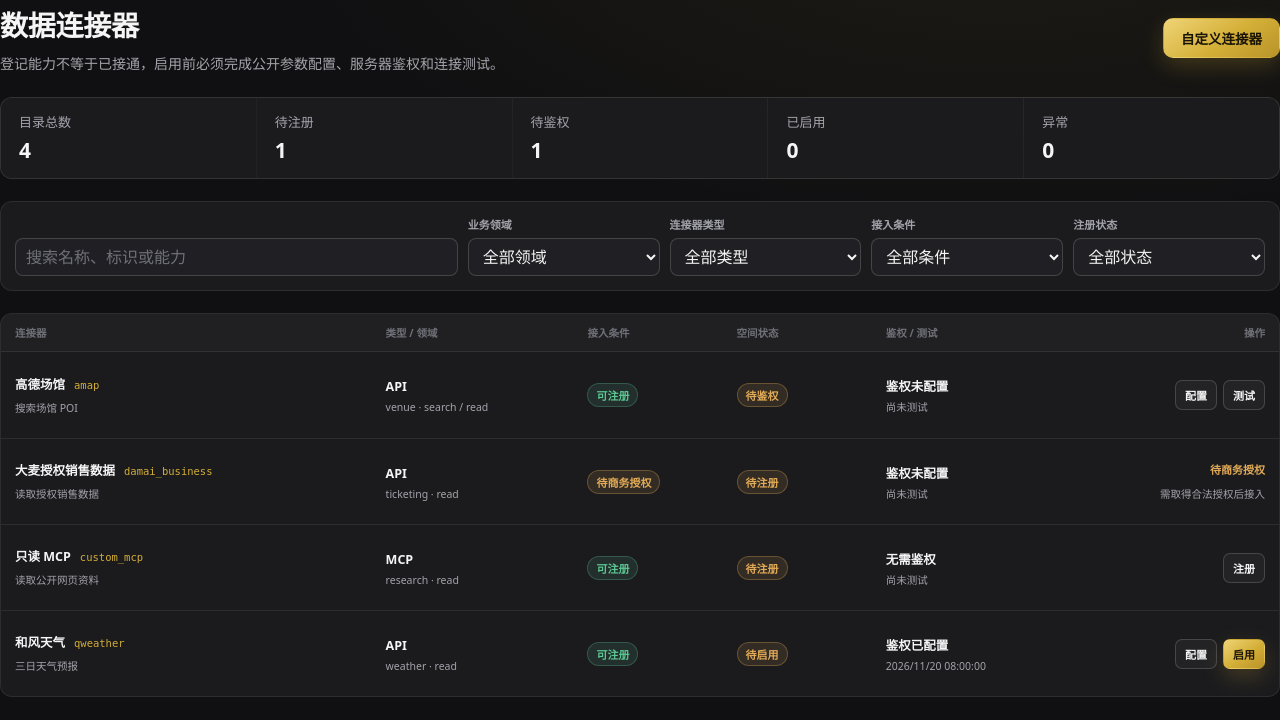
Test: DataConnectorRegistry › registers from schema fields and only submits a credential reference
The width and height of the screenshot is (1280, 720).
Later steps or results of the test are not shown.
Expected: the text "只读 MCP" is shown, [15,546,71,565]
Step 1. Click the button "注册" → (1244, 568), box [1223,553,1265,583]
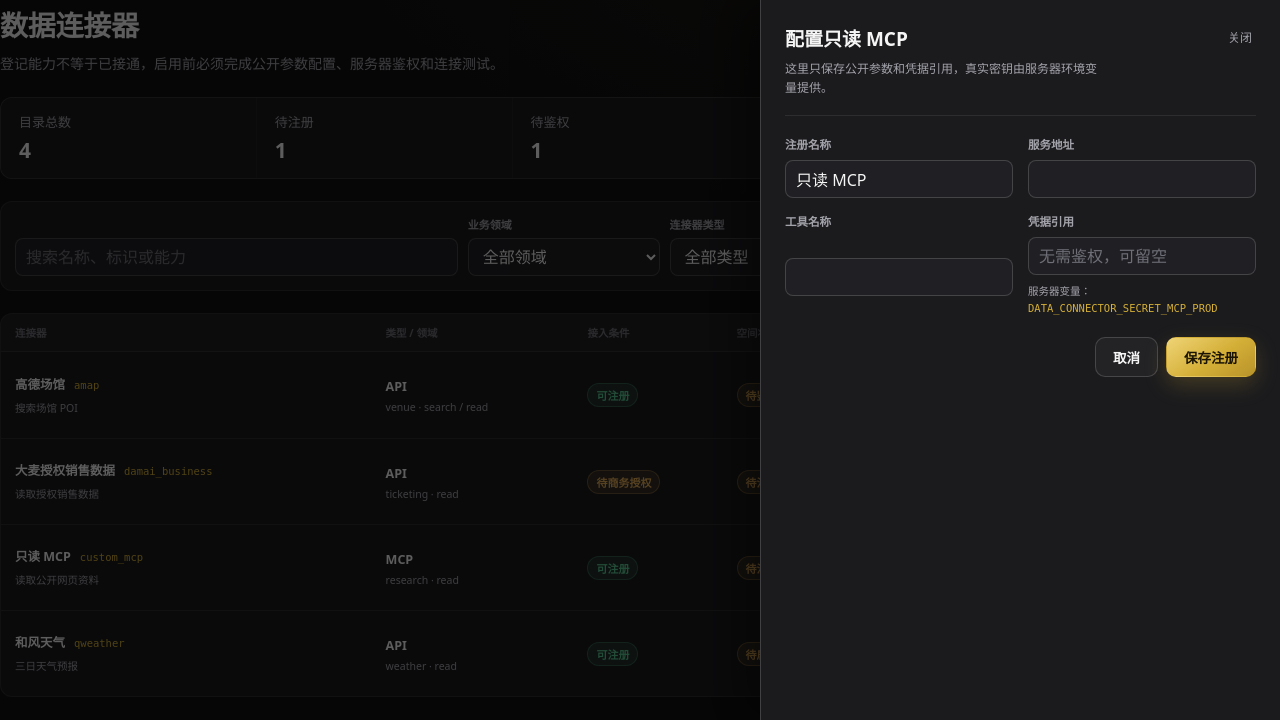
Now the field labelled "服务地址" is shown, box [1028,160,1256,198]
Now the field labelled "工具名称" is shown, box [785,258,1013,296]
Now the text "DATA_CONNECTOR_SECRET_MCP_PROD" is shown, box [1028,302,1218,314]
